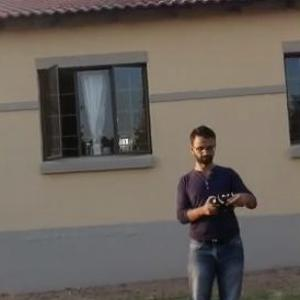follow: (166, 117, 262, 299)
